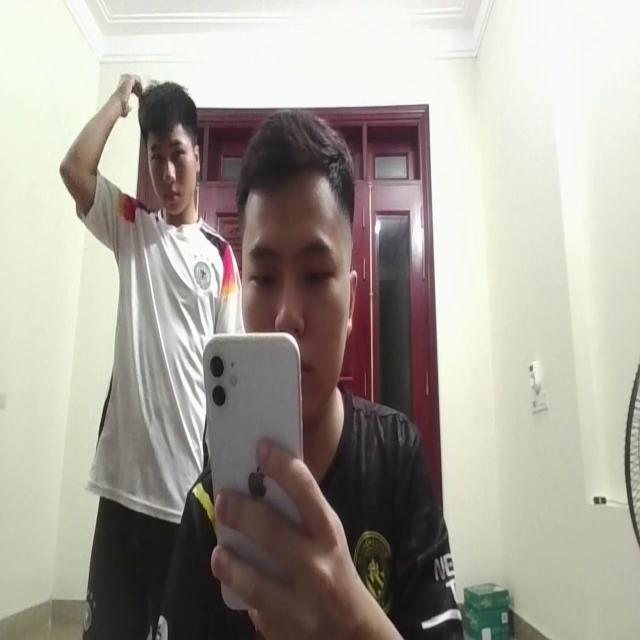extra_person: (80, 68, 236, 522)
phone: (200, 322, 310, 590)
student: (184, 108, 455, 640)
